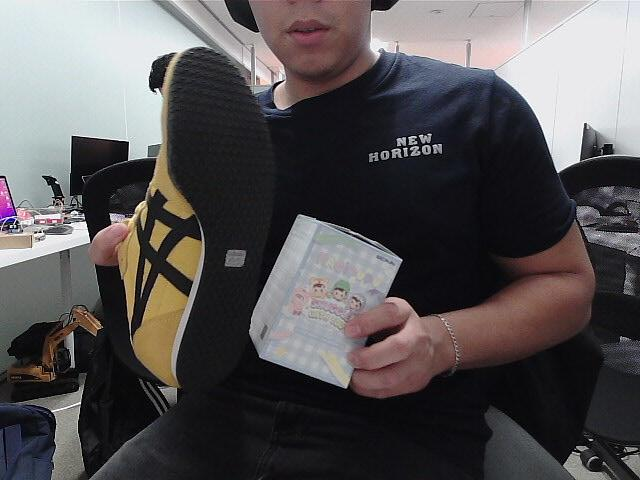Blind_box: (262, 213, 404, 390)
Shoes: (112, 49, 268, 395)
